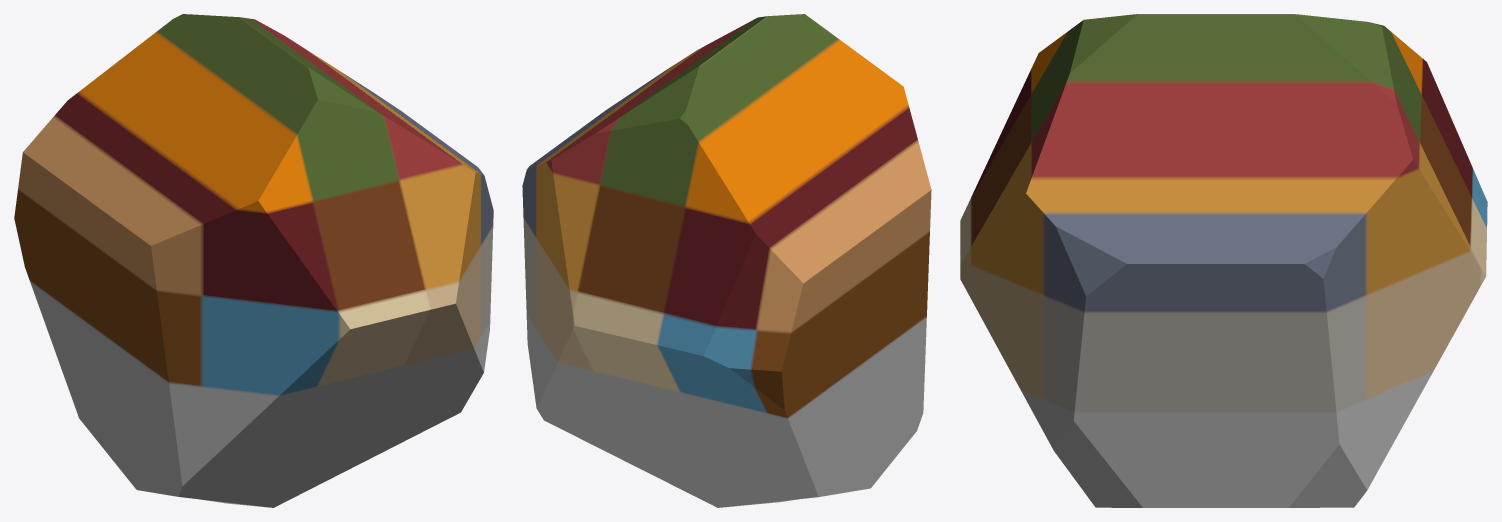
File: Rock_02.fbx
3 views of the same model, side by side, from view 1: azimuth 30°, elevation 25°; view 2: azimuth 150°, elevation 25°; view 3: azimuth 270°, elevation 25° (orthographic). The views are drawn at different scales.
Visible parts, largest first — view 1: Rock_02; view 2: Rock_02; view 3: Rock_02.
Part boxes in pixels (x1=…): Rock_02: x1=14, y1=14, x2=493, y2=507; Rock_02: x1=522, y1=14, x2=931, y2=507; Rock_02: x1=960, y1=14, x2=1487, y2=507.
Bounding box in the file's own units: 1.17 × 1.54 × 1.43.
